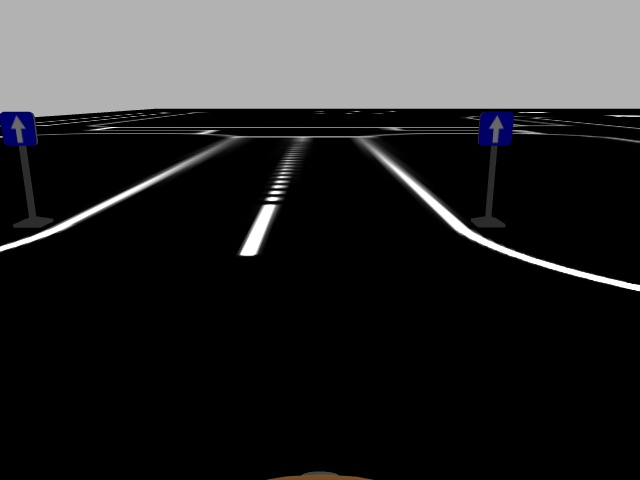oneway: (478, 108, 516, 148), (1, 109, 36, 150)
